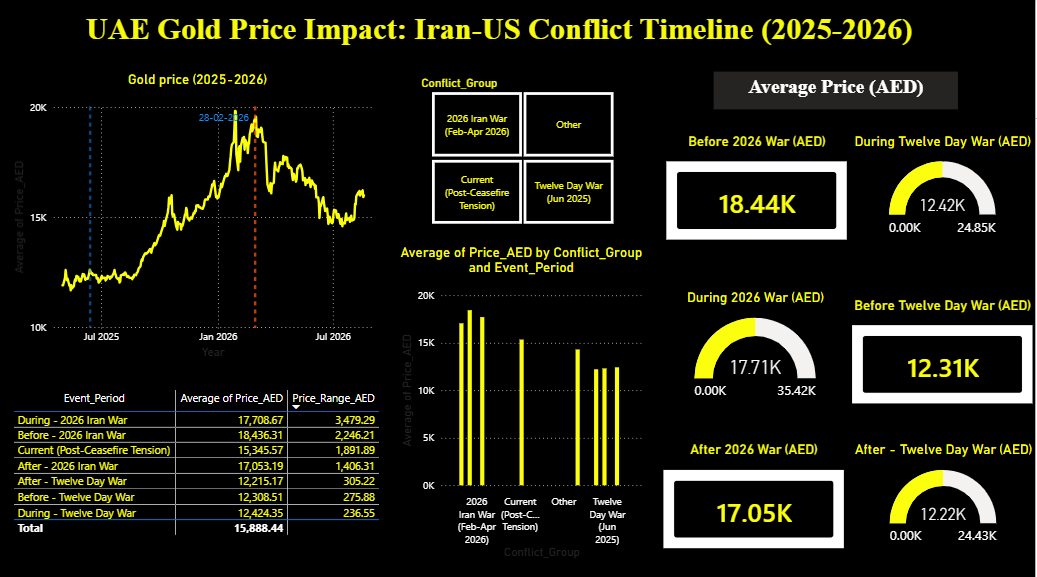

What the dashboard file says about the page in this screenshot:
{"tool":"powerbi","page":{"name":"Page 1","canvas":[1280,720],"ordinal":0},"visuals":[{"type":"cardVisual","title":"Before Twelve Day War (AED)","fields":{"Data":["Avg(XAU_USD Historical Data.Price_AED)"]},"box":[1048.1,369.2,232.3,136.9],"z":0},{"type":"gauge","title":"During Twelve Day War (AED)","fields":{"Y":["Avg(UAE Gold Project.Price_AED)"]},"box":[1048.1,167.5,232.3,136.9],"z":1000},{"type":"gauge","title":"After - Twelve Day War (AED)","fields":{"Y":["Avg(UAE Gold Project.Price_AED)"]},"box":[1049.9,547.5,230.5,136.9],"z":2000},{"type":"gauge","title":"During 2026 War (AED)","fields":{"Y":["Avg(UAE Gold Project.Price_AED)"]},"box":[817.6,360.2,232.3,145.9],"z":4000},{"type":"cardVisual","title":"After 2026 War (AED)","fields":{"Data":["Avg(UAE Gold Project.Price_AED)"]},"box":[815.8,547.5,232.3,136.9],"z":5000},{"type":"lineChart","title":"Gold price (2025-2026)","fields":{"Y":["Avg(UAE Gold Project.Price_AED)"],"Category":["UAE Gold Project.Date.Variation.Date Hierarchy.Year","UAE Gold Project.Date.Variation.Date Hierarchy.Quarter","UAE Gold Project.Date.Variation.Date Hierarchy.Month","UAE Gold Project.Date.Variation.Date Hierarchy.Day"]},"box":[14.4,91.8,464.6,358.4],"z":6000},{"type":"clusteredColumnChart","fields":{"Category":["UAE Gold Project.Conflict_Group"],"Series":["UAE Gold Project.Event_Period"],"Y":["Avg(UAE Gold Project.Price_AED)"]},"box":[491.6,304.3,307.9,392.6],"z":7000},{"type":"tableEx","fields":{"Values":["UAE Gold Project.Event_Period","Avg(UAE Gold Project.Price_AED)","UAE Gold Project.Price_Range_AED"]},"box":[14.4,479,464.6,217.9],"z":8000},{"type":"slicer","title":"Conflict Group","fields":{"Values":["UAE Gold Project.Conflict_Group"]},"box":[509.6,91.8,273.7,194.5],"z":9000},{"type":"textbox","box":[99,12.6,1039.1,61.2],"z":10000},{"type":"cardVisual","title":"Before 2026 War (AED)","fields":{"Data":["Avg(XAU_USD Historical Data.Price_AED)"]},"box":[819.4,167.5,232.3,136.9],"z":10001},{"type":"textbox","box":[882.4,91.8,300.7,46.8],"z":10002}]}

Visuals, with their boxes in screenshot pixels (x1, y1, x2, y2), scaled from the page's 1280x720 canvas onto the 1037x577 screenshot:
"Before Twelve Day War (AED)" cardVisual: Rect(849, 296, 1036, 406)
"During Twelve Day War (AED)" gauge: Rect(849, 134, 1036, 244)
"After - Twelve Day War (AED)" gauge: Rect(851, 439, 1036, 548)
"During 2026 War (AED)" gauge: Rect(662, 289, 851, 406)
"After 2026 War (AED)" cardVisual: Rect(661, 439, 849, 548)
"Gold price (2025-2026)" lineChart: Rect(12, 74, 388, 361)
clusteredColumnChart - UAE Gold Project.Conflict_Group x UAE Gold Project.Event_Period: Rect(398, 244, 648, 558)
tableEx - UAE Gold Project.Event_Period x Avg(UAE Gold Project.Price_AED): Rect(12, 384, 388, 558)
"Conflict Group" slicer: Rect(413, 74, 635, 229)
textbox: Rect(80, 10, 922, 59)
"Before 2026 War (AED)" cardVisual: Rect(664, 134, 852, 244)
textbox: Rect(715, 74, 958, 111)
